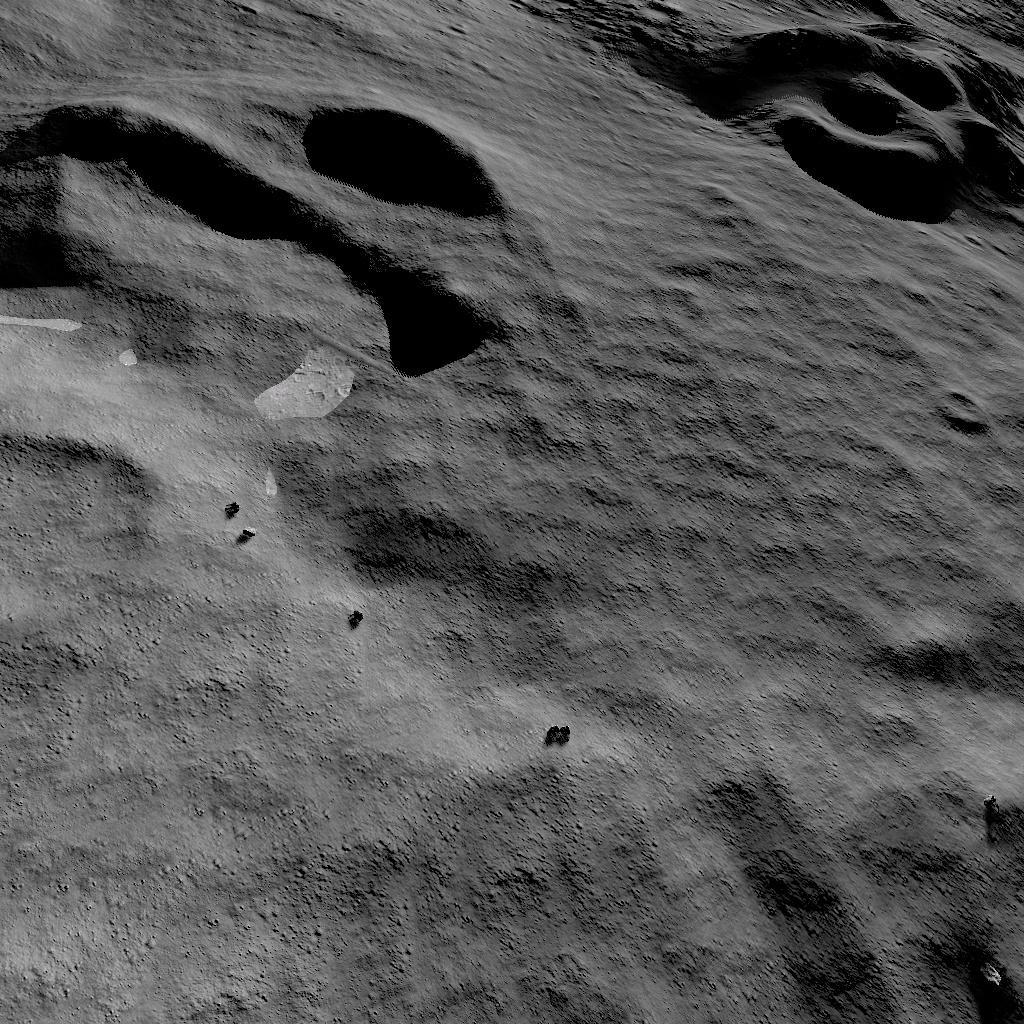Crater: (0, 57, 522, 377), (577, 0, 1024, 239), (0, 425, 168, 622), (932, 385, 999, 433)
Plan surface: (7, 668, 524, 1024), (591, 287, 909, 806), (547, 820, 893, 1024)
